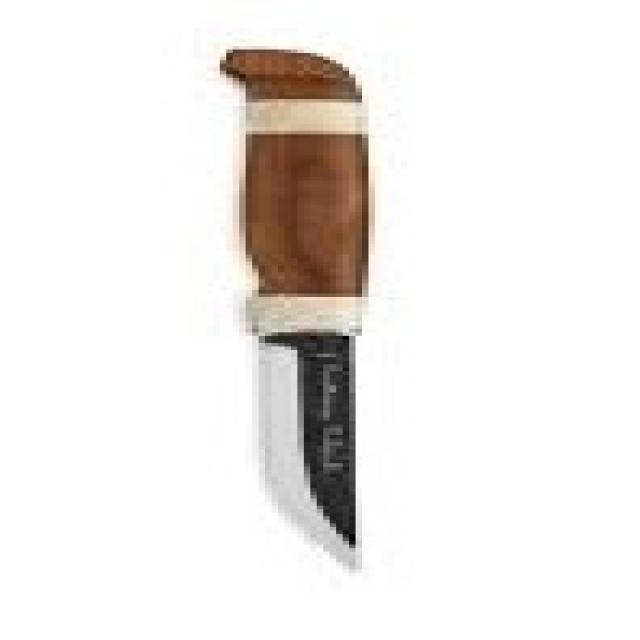knife: (197, 37, 476, 577)
